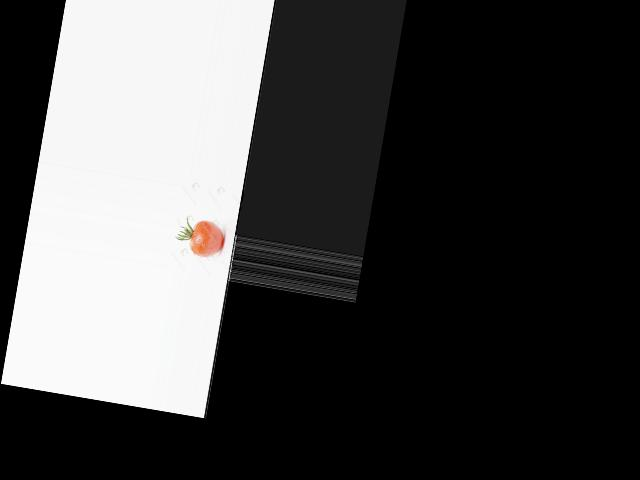tomato: (188, 218, 226, 258)
